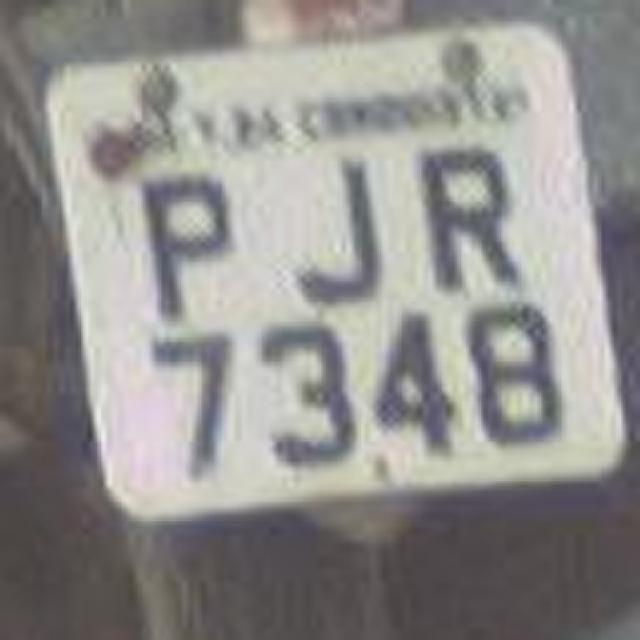3: (228, 300, 364, 475)
4: (344, 295, 456, 480)
7: (116, 304, 249, 488)
8: (452, 296, 560, 472)
J: (276, 149, 409, 316)
P: (140, 148, 252, 324)
R: (424, 144, 536, 311)
